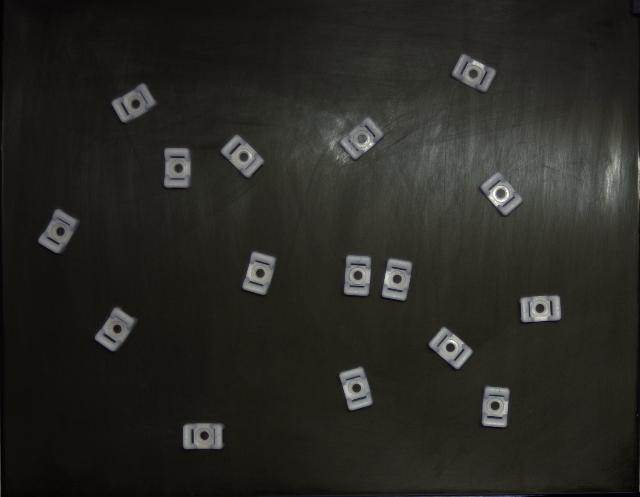first_side: (221, 135, 265, 179), (95, 308, 138, 352), (340, 118, 384, 160), (480, 172, 522, 216), (429, 328, 472, 370), (39, 210, 80, 254), (111, 84, 158, 122), (451, 54, 496, 92), (242, 253, 276, 295), (339, 368, 372, 411), (382, 259, 412, 301), (481, 386, 510, 429), (344, 255, 371, 296), (182, 424, 224, 450), (164, 149, 191, 189), (520, 296, 561, 322)
